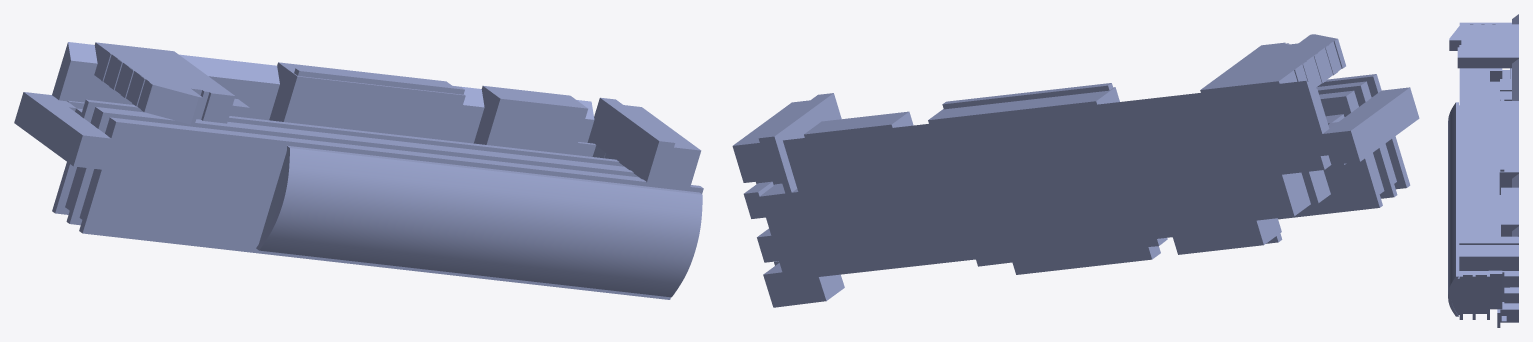
3 views of the same model, side by side, from view 1: azimuth 30°, elevation 25°; view 2: azimuth 150°, elevation 25°; view 3: azimuth 270°, elevation 25° (orthographic). The views are drawn at different scales.
Parts seen in each view (by area): view 1: E5; view 2: E5; view 3: E5.
Boxes of the visible parts, box(x1,y1,x2,y2) form: E5: box(14, 42, 703, 299); E5: box(732, 34, 1419, 307); E5: box(1448, 14, 1518, 327).
Bounding box in the file's own units: 116 × 64.24 × 22.6.
